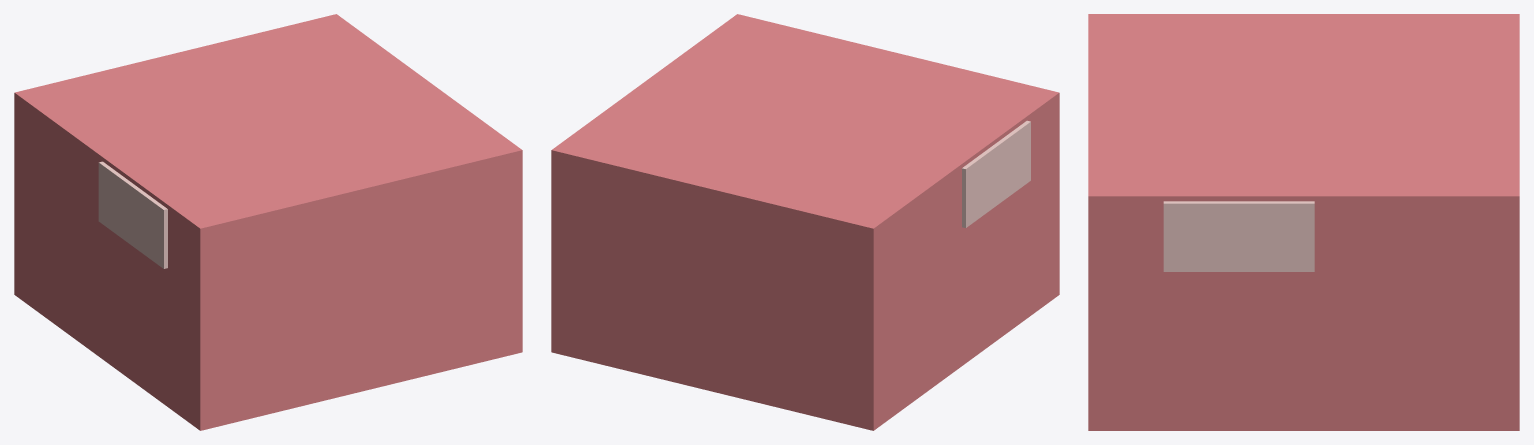
Rendered from food_ingredient_ham_cubes.gltf.
3 views of the same model, side by side, from view 1: azimuth 30°, elevation 25°; view 2: azimuth 150°, elevation 25°; view 3: azimuth 270°, elevation 25° (orthographic). The views are drawn at different scales.
Parts seen in each view (by area): view 1: food_ingredient_ham_cubes; view 2: food_ingredient_ham_cubes; view 3: food_ingredient_ham_cubes.
Part boxes in pixels (left/top/right/bottom): food_ingredient_ham_cubes: left=14, top=14, right=522, bottom=430; food_ingredient_ham_cubes: left=551, top=14, right=1059, bottom=430; food_ingredient_ham_cubes: left=1088, top=14, right=1519, bottom=430.
Size of the model in its own units: 0.205 by 0.12 by 0.2.
